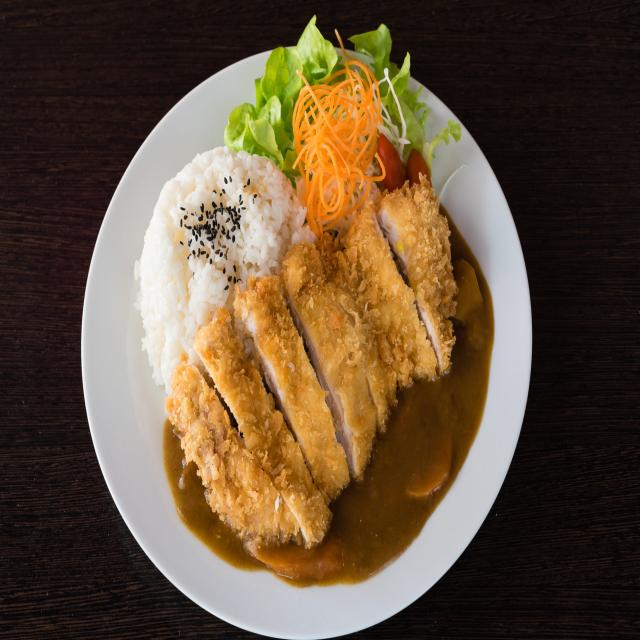Carbohydrate: (138, 135, 318, 394)
Curry: (81, 18, 534, 640)
Protein: (161, 173, 454, 551)
Vegetable: (220, 28, 463, 228)
